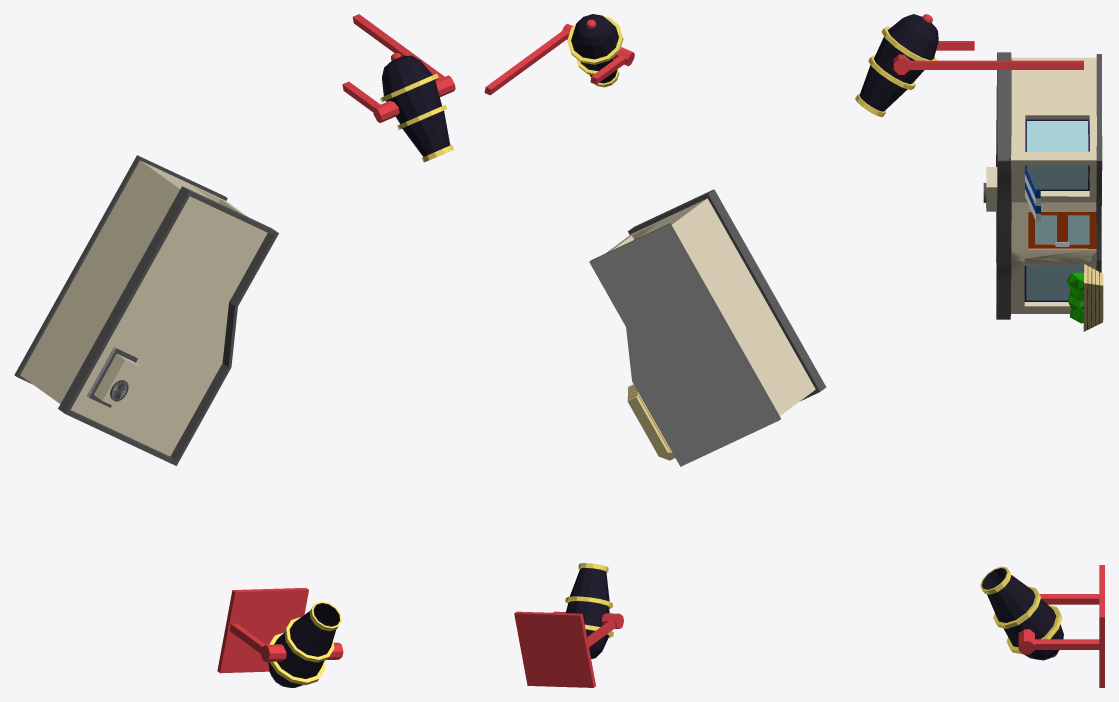
The model's file is shop and cannon.glb.
The picture shows the model from 3 angles, left to right: view 1: azimuth 30°, elevation 25°; view 2: azimuth 150°, elevation 25°; view 3: azimuth 270°, elevation 25°; orthographic projection. The views are drawn at different scales.
Visible parts, largest first — view 1: Cannon 2; view 2: Cannon 2; view 3: Cannon 2.
Part boxes in pixels (x1,y1,x2,y2): Cannon 2: (14, 14, 455, 687); Cannon 2: (484, 14, 826, 687); Cannon 2: (855, 14, 1104, 687).
Bounding box in the file's own units: 4.39 × 8.32 × 2.77.
14 materials, 1 textured.
